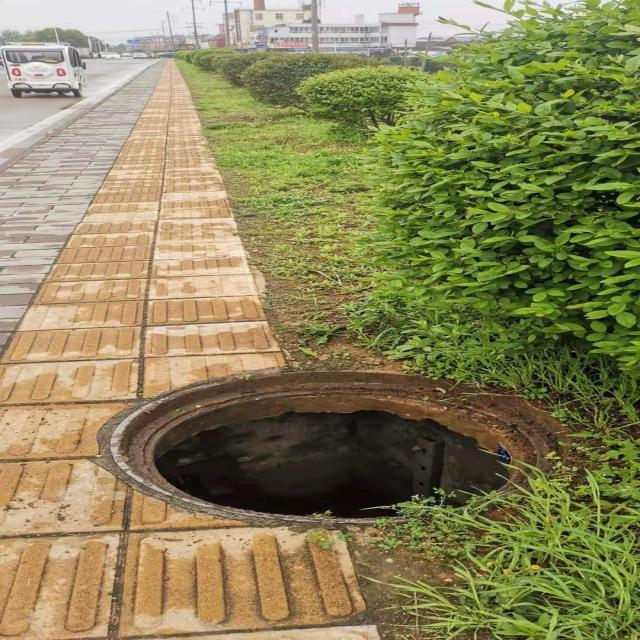Faulty: (103, 368, 563, 524)
